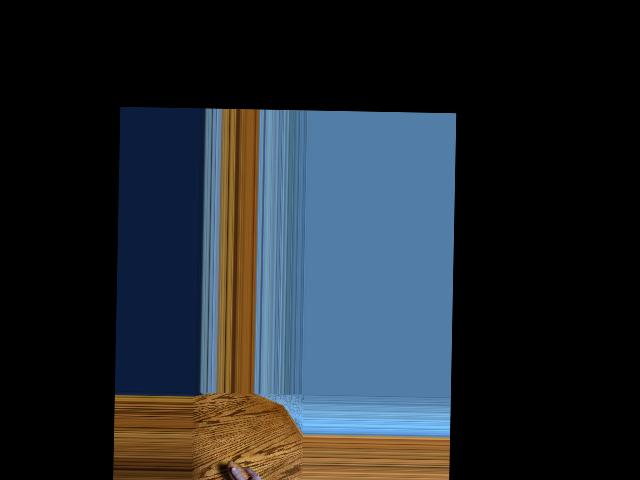sweet_potato: (225, 459, 270, 480)
